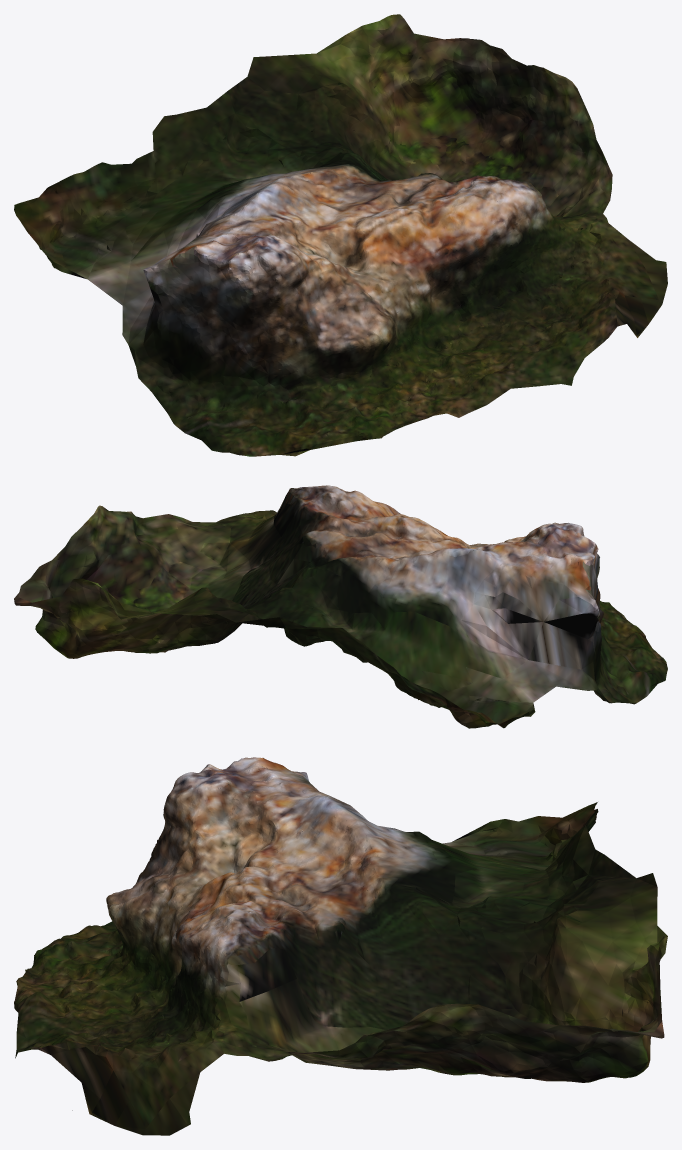
The model's file is location.glb.
3 renders of one model, top to bottom at view 1: azimuth 30°, elevation 25°; view 2: azimuth 150°, elevation 25°; view 3: azimuth 270°, elevation 25°, orthographic. The views are drawn at different scales.
Visible parts, largest first — view 1: texturedMesh; view 2: texturedMesh; view 3: texturedMesh.
Boxes of the visible parts, <box> form: texturedMesh: <box>14,14,667,456</box>; texturedMesh: <box>14,485,667,728</box>; texturedMesh: <box>14,757,667,1135</box>.
Size of the model in its own units: 3.18 by 1.07 by 3.13.
1 material, 1 textured.
